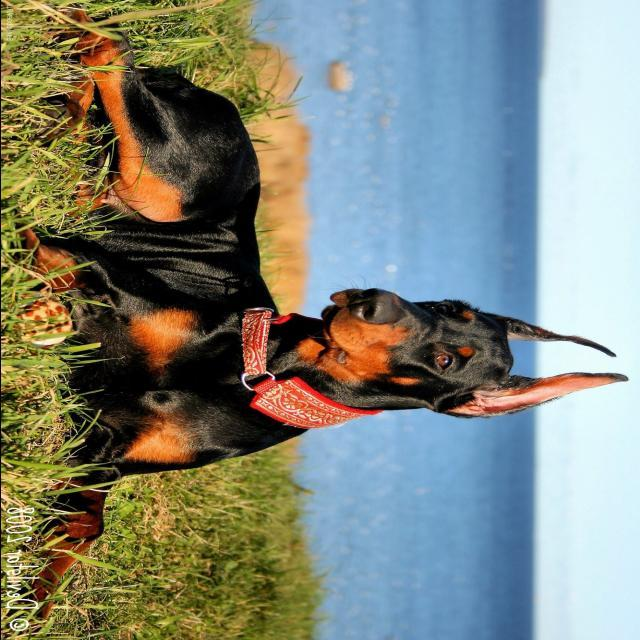Dogs: (1, 11, 628, 614)
